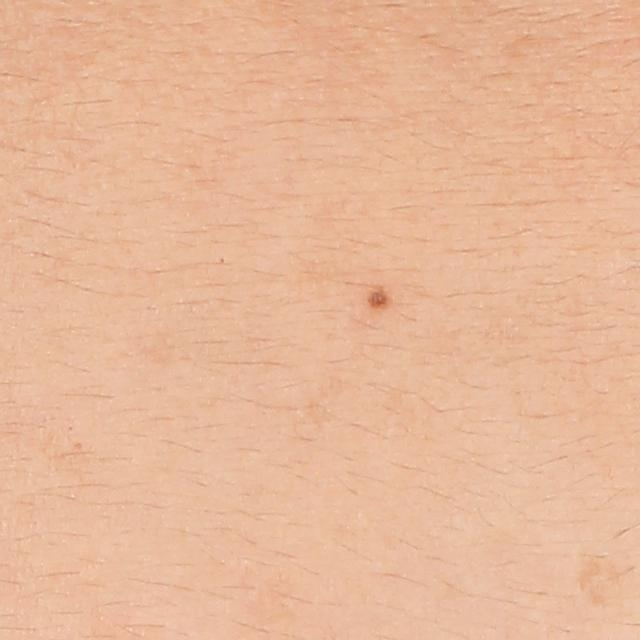nevus: (364, 282, 393, 311)
